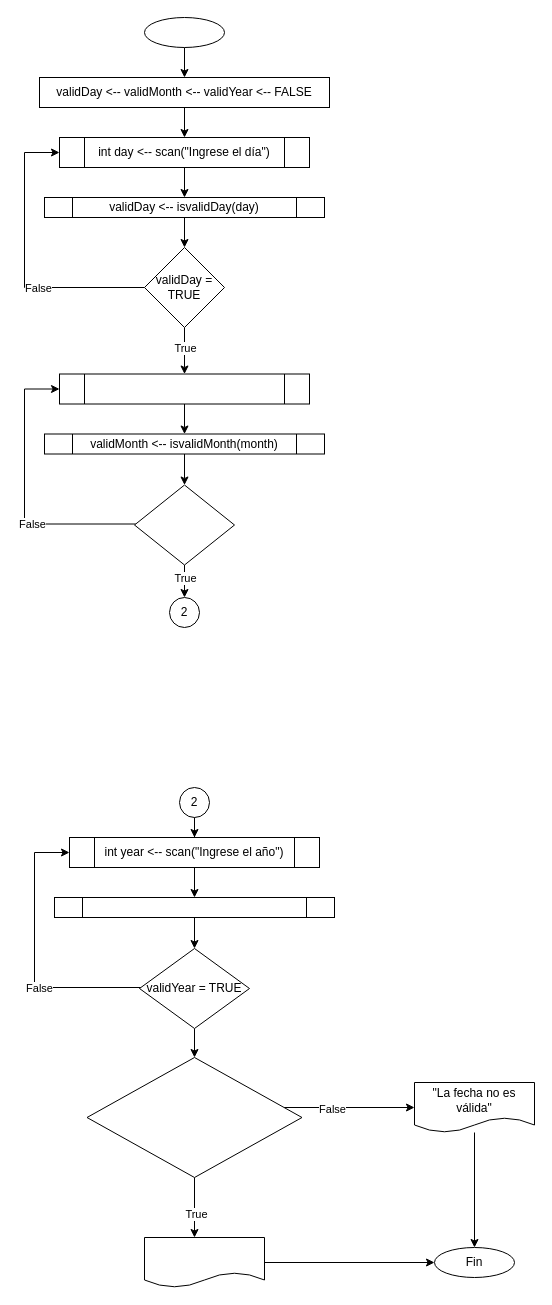
Some shapes in this 552 by 1305 pixel diagram are drawn without their labels. Here are the shapes that lost their labels. From the top down, the centre of each, then its label:
the point at 184,32: Inicio
the point at 184,388: int month <-- scan("Ingrese el mes")
the point at 184,524: validMonth = TRUE
the point at 194,907: validYear <-- isvalidYear(year)
the point at 194,1117: isValidDate(day, month, year) = true
the point at 204,1262: "La fecha es válida"
